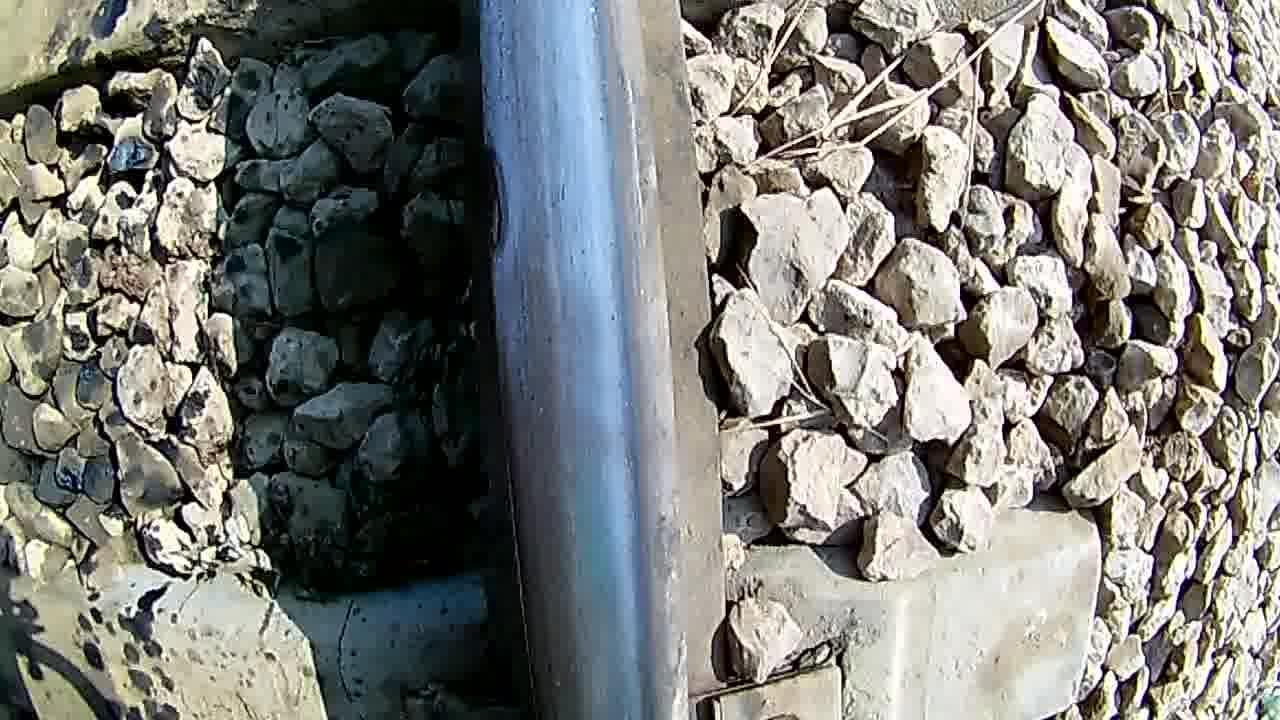crack: (508, 1, 681, 720)
